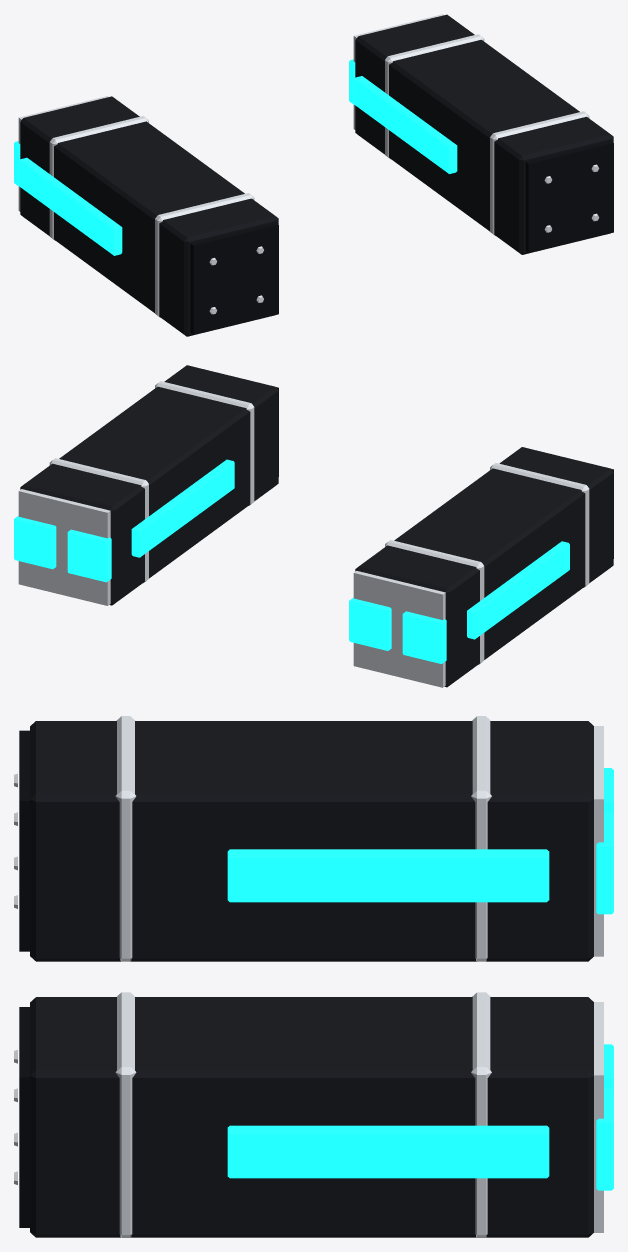
Rendered from deck_pods_square.glb.
The picture shows the model from 3 angles, top to bottom: view 1: azimuth 30°, elevation 25°; view 2: azimuth 150°, elevation 25°; view 3: azimuth 270°, elevation 25°; orthographic projection. The views are drawn at different scales.
Visible parts, largest first — view 1: deck_pods_square_POD1, deck_pods_square_POD0; view 2: deck_pods_square_POD1, deck_pods_square_POD0; view 3: deck_pods_square_POD0, deck_pods_square_POD1.
Boxes of the visible parts, box(x1,y1,x2,y2) form: deck_pods_square_POD1: box(349, 14, 613, 254); deck_pods_square_POD0: box(14, 96, 278, 336); deck_pods_square_POD1: box(14, 365, 278, 605); deck_pods_square_POD0: box(349, 447, 613, 687); deck_pods_square_POD0: box(14, 716, 613, 961); deck_pods_square_POD1: box(14, 992, 613, 1237).
Bounding box in the file's own units: 1.5 × 0.3186 × 1.01.
